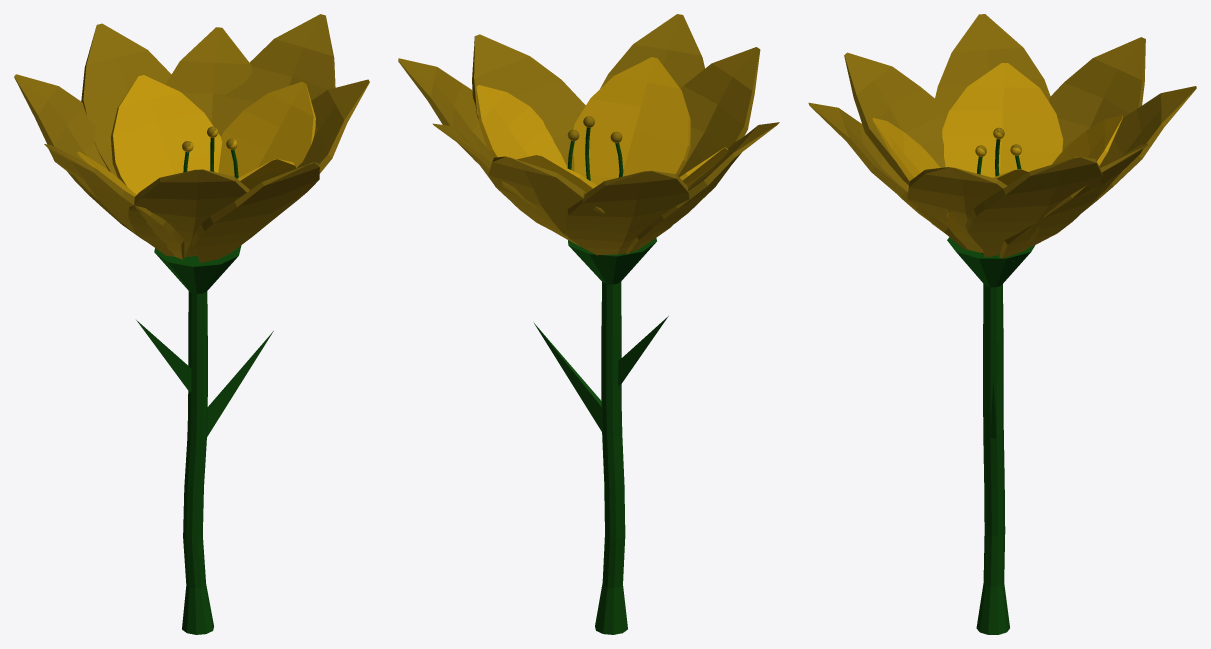
File: Flor 3.obj
3 views of the same model, side by side, from view 1: azimuth 30°, elevation 25°; view 2: azimuth 150°, elevation 25°; view 3: azimuth 270°, elevation 25° (orthographic). The views are drawn at different scales.
Visible parts, largest first — view 1: Cylinder; view 2: Cylinder; view 3: Cylinder.
Boxes of the visible parts, box(x1,y1,x2,y2) form: Cylinder: box(14, 14, 369, 634); Cylinder: box(398, 14, 779, 634); Cylinder: box(808, 14, 1196, 634).
Size of the model in its own units: 4.17 by 6.65 by 4.23.
